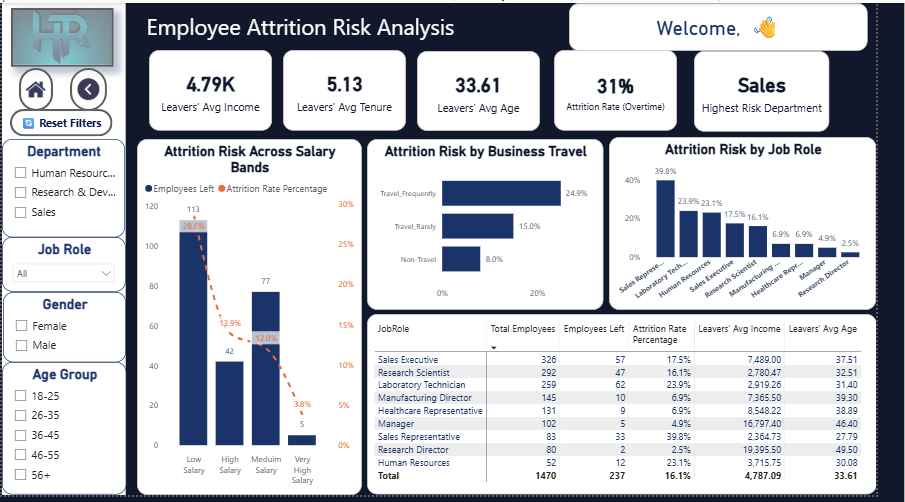

Layout of this report page (visuals, bound fields, positions):
{"tool":"powerbi","page":{"name":"Employee Attrition Risk Analysis","canvas":[1280,720],"ordinal":2},"visuals":[{"type":"shape","box":[0,0,181.2,720],"z":0},{"type":"card","fields":{"Values":["_Measures.Average Monthly Income ( Employees left )"]},"box":[214.9,69.5,180,117.5],"z":1000},{"type":"pivotTable","title":"Attrition Rate by Job Satisfaction","fields":{"Rows":["DimJobRole.JobRole"],"Values":["_Measures.Total Employees","_Measures.Employees Left","_Measures.Attrition Rate Percentage","_Measures.Leavers’ Avg Income","_Measures.Leavers’ Avg Age"]},"box":[534.3,455.7,745.7,264.3],"z":2000},{"type":"card","fields":{"Values":["_Measures.Average Age (Employees Left)"]},"box":[608,70.2,180,117.1],"z":3000},{"type":"columnChart","title":"Attrition Risk by Job Role","fields":{"Category":["DimJobRole.JobRole"],"Y":["_Measures.Attrition Rate Percentage"]},"box":[888.6,195.7,391.4,252.9],"z":4000},{"type":"barChart","title":"Attrition Risk by Business Travel","fields":{"Category":["DimBusinessTravel.BusinessTravel"],"Y":["_Measures.Attrition Rate Percentage"]},"box":[534.3,198.6,345.7,250],"z":5000},{"type":"card","fields":{"Values":["_Measures.Average Years at company (Employees Left)"]},"box":[411.2,69.5,180,117.5],"z":6000},{"type":"lineClusteredColumnComboChart","title":"Attrition Risk Across Salary Bands","fields":{"Category":["FactEmployee.SalaryBand"],"Y2":["_Measures.Attrition Rate Percentage"],"Y":["_Measures.Employees Left"]},"box":[197.1,198.6,328.6,521.4],"z":7000},{"type":"textbox","box":[197.1,7.1,632.9,61.4],"z":8000},{"type":"card","fields":{"Values":["_Measures.Attrition Rate (Overtime)"]},"box":[807.9,68.7,180,118.3],"z":9000},{"type":"slicer","title":"Gender","fields":{"Values":["DimGender.Gender"]},"box":[1.4,422.9,180,102.9],"z":10000},{"type":"actionButton","box":[12.5,7.5,150,86.2],"z":11000},{"type":"slicer","title":"Job Role","fields":{"Values":["DimJobRole.JobRole"]},"box":[0,342.9,181.4,80],"z":12000},{"type":"slicer","title":"Age Group","fields":{"Values":["FactEmployee.AgeGroup"]},"box":[0,526,182,194],"z":13000},{"type":"card","fields":{"Values":["_Measures.Welcome User"]},"box":[830,0,436.7,70],"z":14000},{"type":"slicer","title":"Department","fields":{"Values":["DimDepartment.Department"]},"box":[0,198.6,180,144.3],"z":15000},{"type":"actionButton","box":[0,33.8,100,6.2],"z":16000},{"type":"actionButton","box":[11.4,155.7,150,40],"z":17000},{"type":"actionButton","box":[24.9,95.1,49.8,62.9],"z":18000},{"type":"actionButton","box":[99.5,95.1,54.1,62.9],"z":19000},{"type":"card","fields":{"Values":["_Measures.Highest Risk Department"]},"box":[1012.9,70.3,198.3,118.3],"z":21000}]}

Visuals, with their boxes in screenshot pixels (x1, y1, x2, y2), scaled from the page's 1280x720 canvas onto the 905x502 screenshot:
shape: 0/0/128/501
card - _Measures.Average Monthly Income ( Employees left ): 152/48/279/130
"Attrition Rate by Job Satisfaction" pivotTable: 378/318/904/501
card - _Measures.Average Age (Employees Left): 430/49/557/131
"Attrition Risk by Job Role" columnChart: 628/136/904/313
"Attrition Risk by Business Travel" barChart: 378/138/622/313
card - _Measures.Average Years at company (Employees Left): 291/48/418/130
"Attrition Risk Across Salary Bands" lineClusteredColumnComboChart: 139/138/372/501
textbox: 139/5/587/48
card - _Measures.Attrition Rate (Overtime): 571/48/698/130
"Gender" slicer: 1/295/128/367
actionButton: 9/5/115/65
"Job Role" slicer: 0/239/128/295
"Age Group" slicer: 0/367/129/501
card - _Measures.Welcome User: 587/0/896/49
"Department" slicer: 0/138/127/239
actionButton: 0/24/71/28
actionButton: 8/109/114/136
actionButton: 18/66/53/110
actionButton: 70/66/109/110
card - _Measures.Highest Risk Department: 716/49/856/131
